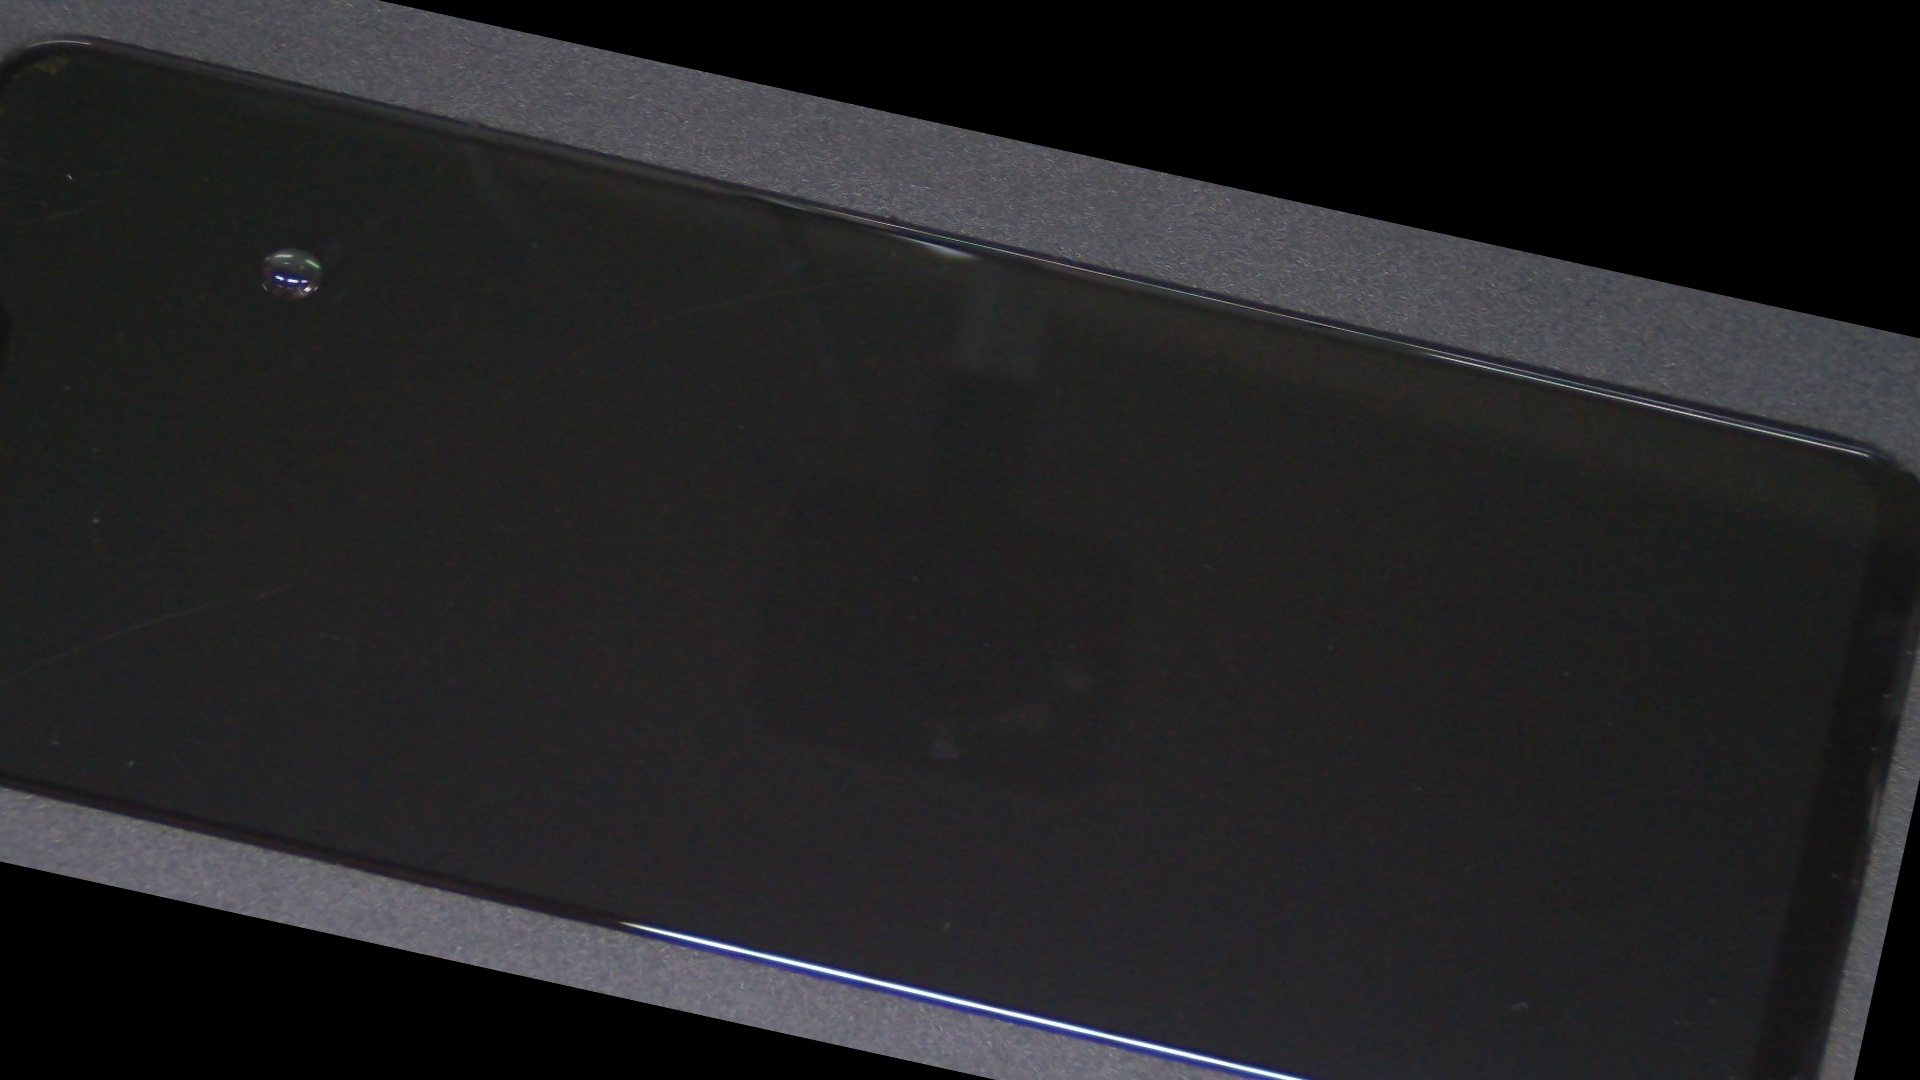oil: (76, 78, 512, 415)
